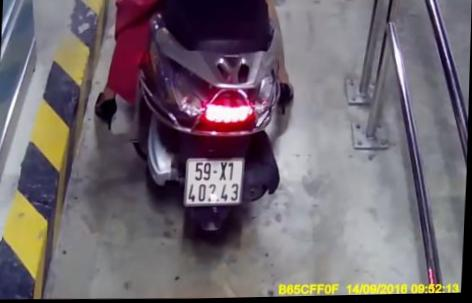LP: (184, 155, 245, 209)
